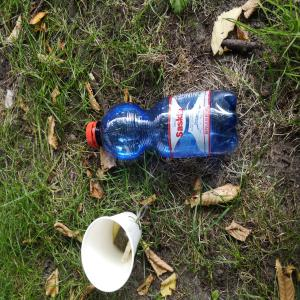Cup: (81, 212, 144, 294)
Plastic-bottle: (86, 89, 240, 162)
